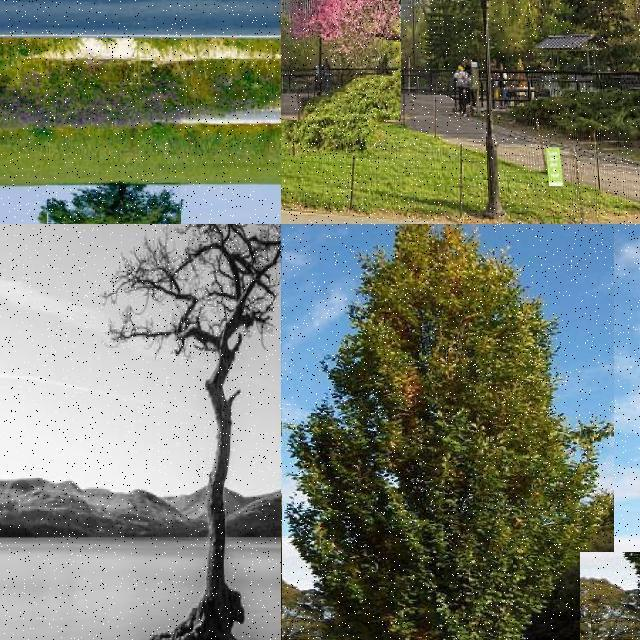tree: (282, 224, 614, 640), (99, 224, 281, 638), (281, 440, 403, 640), (281, 0, 401, 120), (281, 0, 367, 156), (47, 184, 181, 224), (580, 552, 640, 640), (282, 0, 322, 96)
